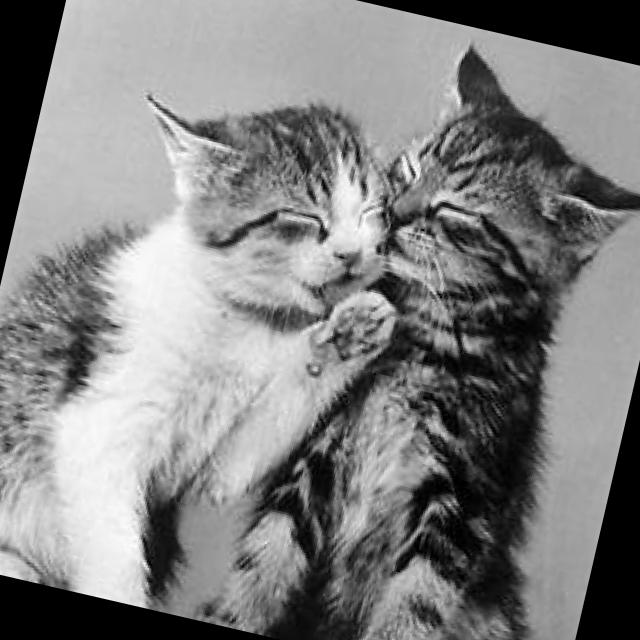cat: (193, 5, 640, 640), (0, 31, 445, 640)
